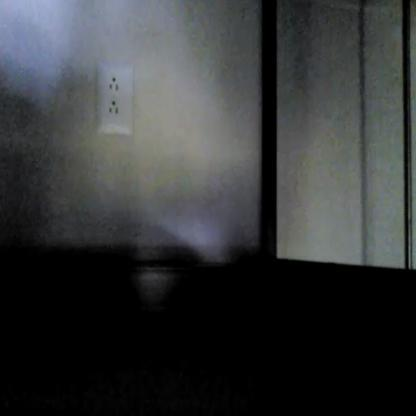OUTLET: (96, 63, 134, 134)
